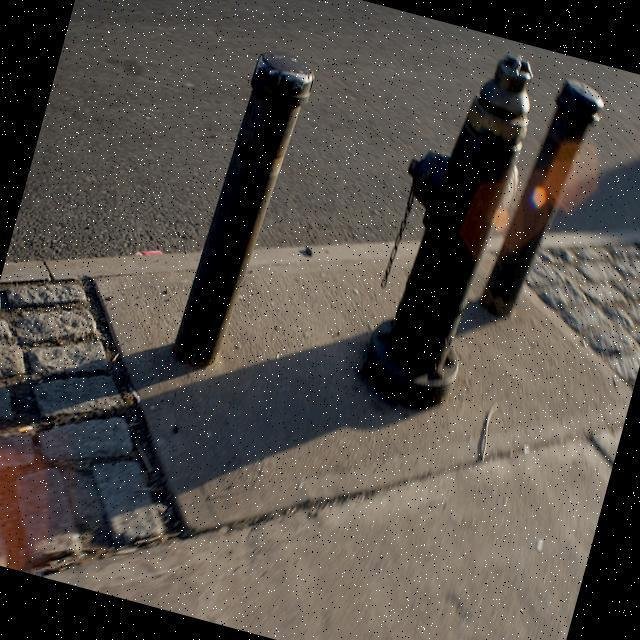fire_hydrant: (348, 34, 552, 416)
